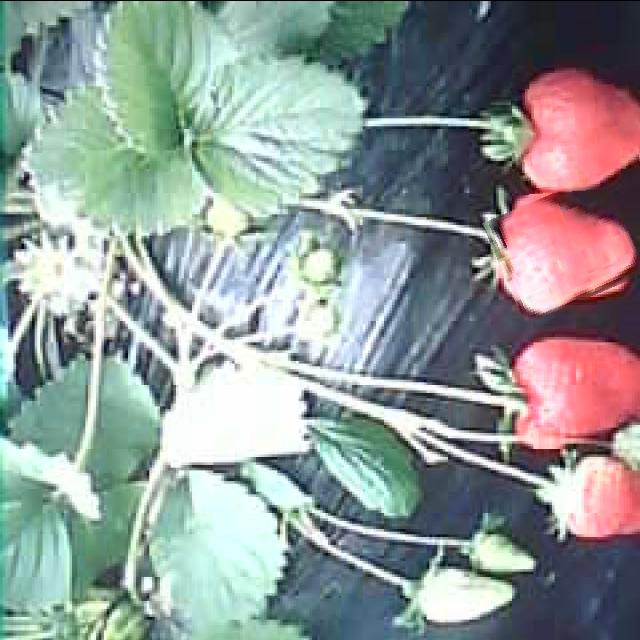strawberry: (490, 182, 638, 312), (512, 70, 640, 192)
